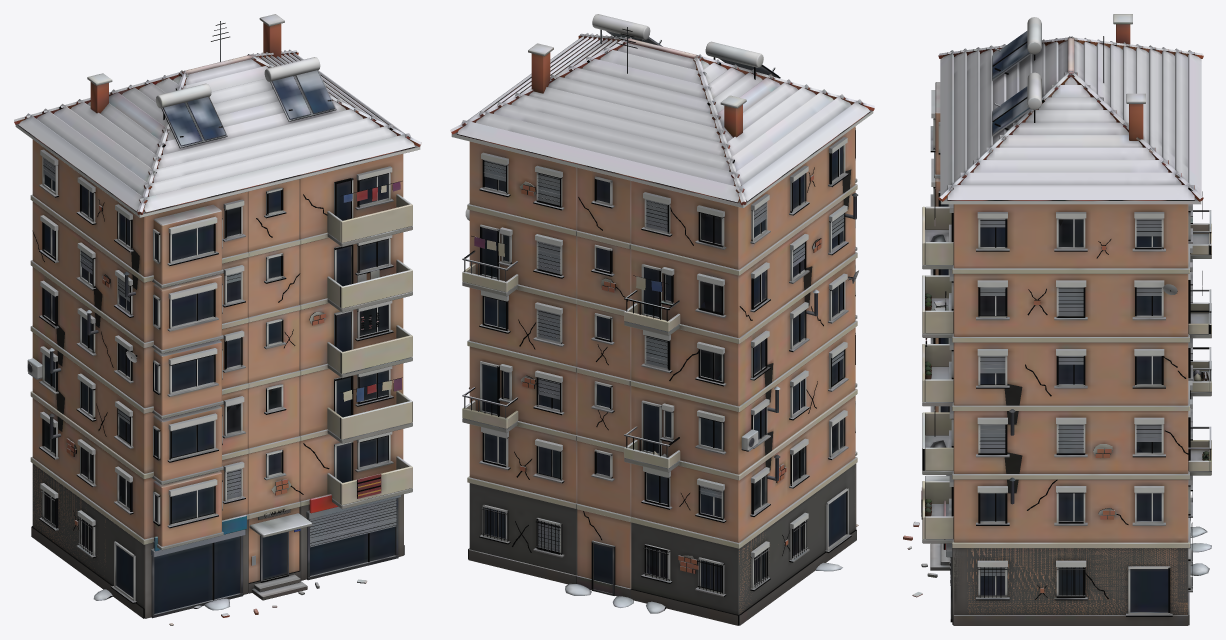
Rendered from bld_apt_peach_5.glb.
3 renders of one model, left to right at view 1: azimuth 30°, elevation 25°; view 2: azimuth 150°, elevation 25°; view 3: azimuth 270°, elevation 25°, orthographic. The views are drawn at different scales.
Parts seen in each view (by area): view 1: bld_apt_peach_5; view 2: bld_apt_peach_5; view 3: bld_apt_peach_5.
Part boxes in pixels (left/top/right/bottom): bld_apt_peach_5: left=14, top=14, right=421, bottom=625; bld_apt_peach_5: left=450, top=14, right=874, bottom=625; bld_apt_peach_5: left=903, top=14, right=1211, bottom=625.
Bounding box in the file's own units: 13.48 × 22.55 × 11.84.
Materials: 1 (1 with a texture image).
